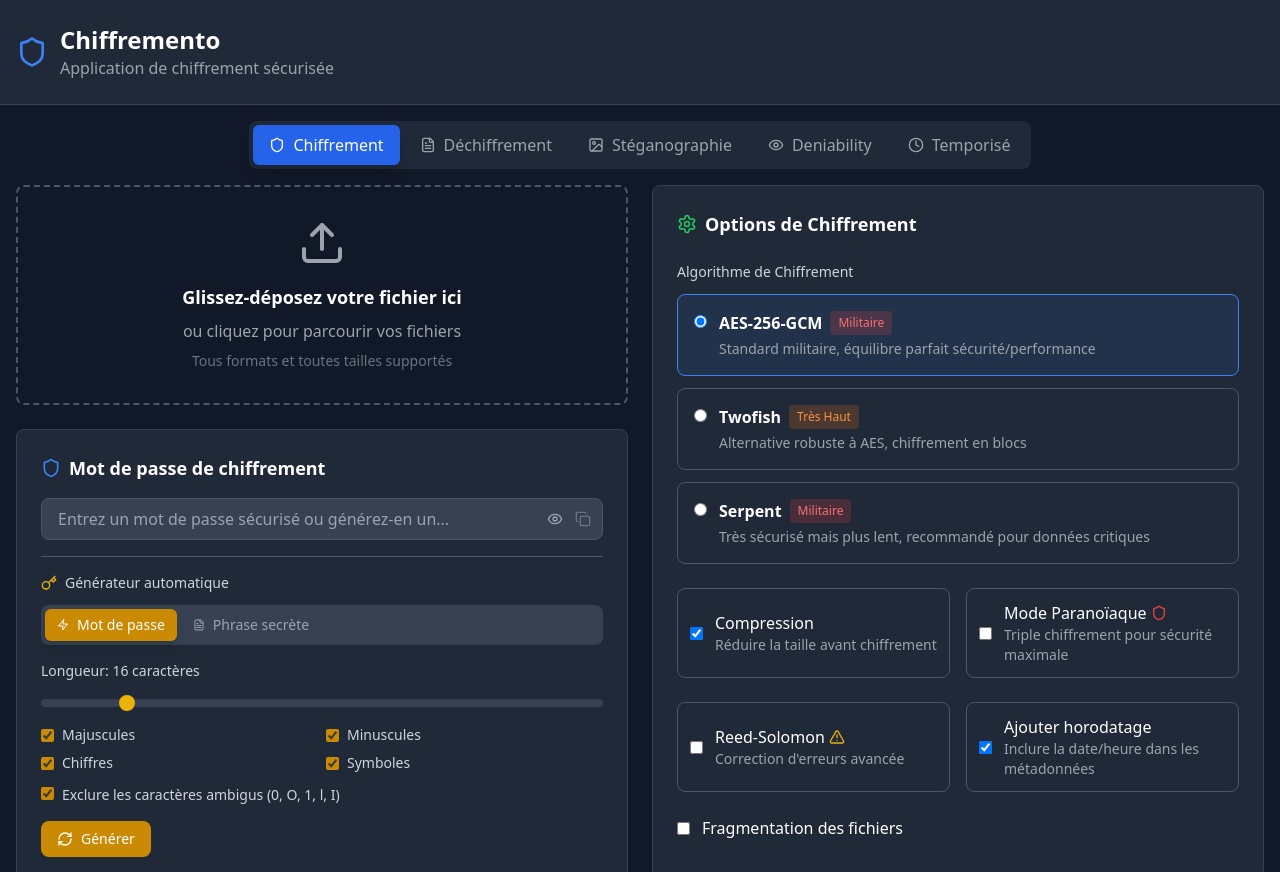
App Integration Tests › Tab State Management › should maintain form state when switching between tabs
In the password field with placeholder "Entrez un mot de passe sécurisé ou générez-en un...": [322, 519] box [41,498,603,540], type "persistent123"
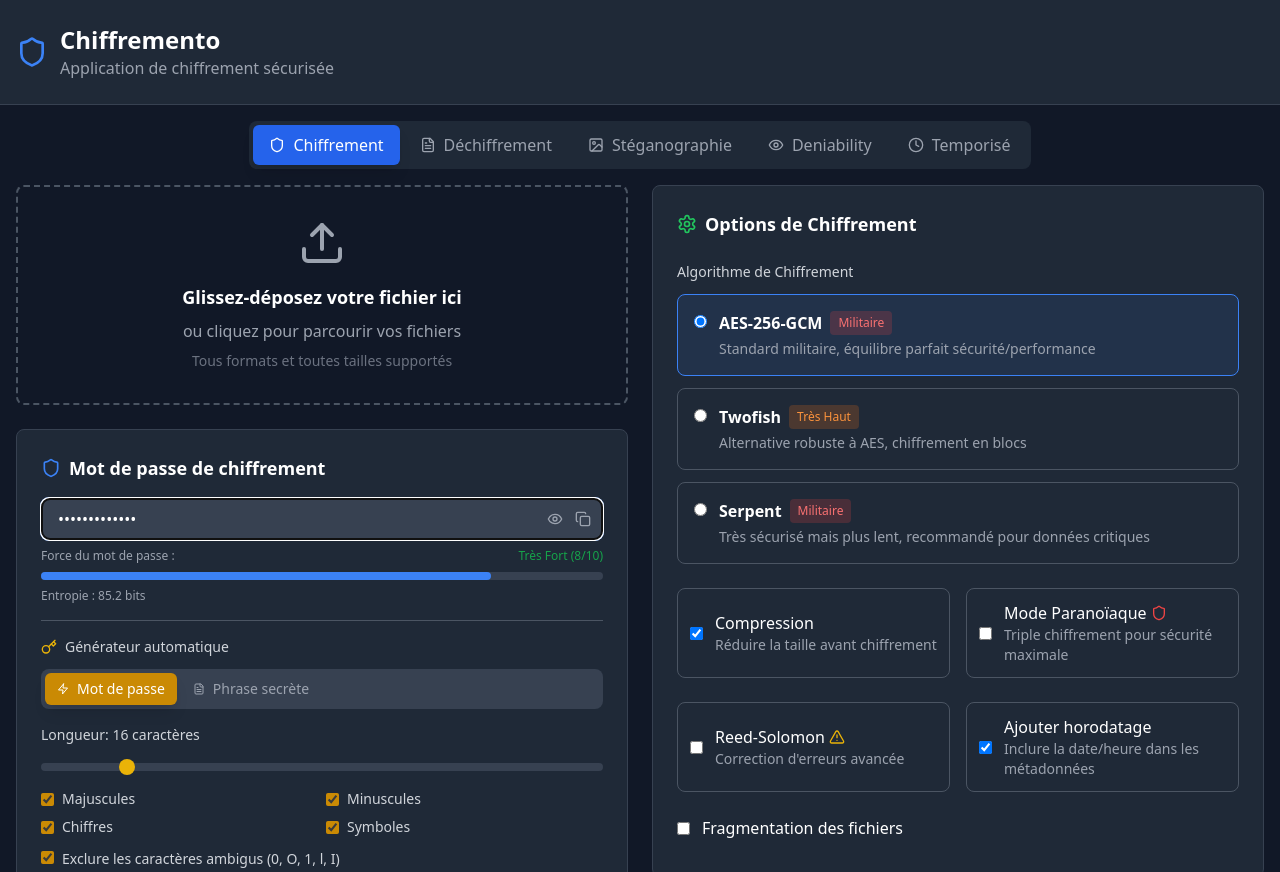
Switch to steganography tab
Click the button "Stéganographie": [660, 145] box [572,125,748,165]
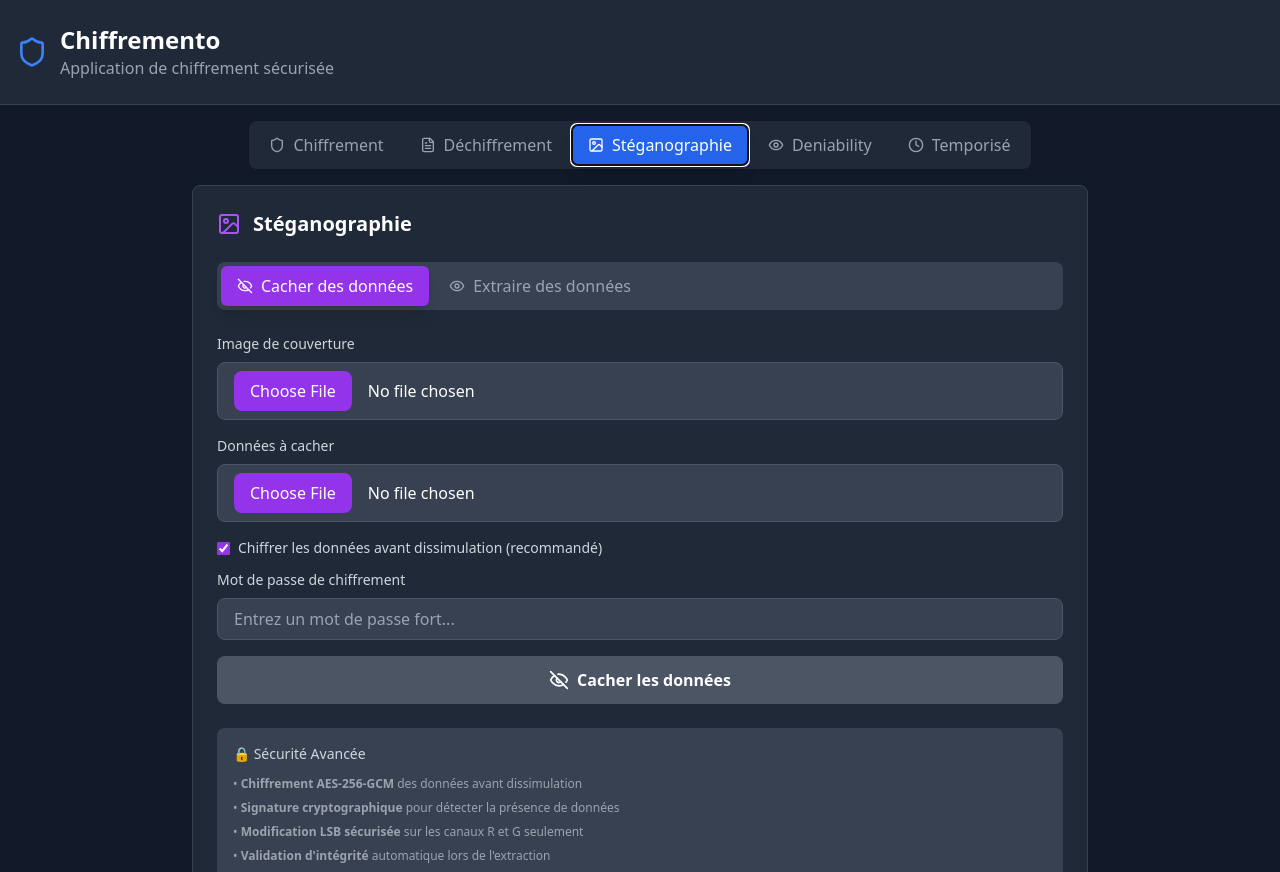
Switch back to encryption tab
Click the button "Chiffrement": [327, 145] box [254,125,400,165]
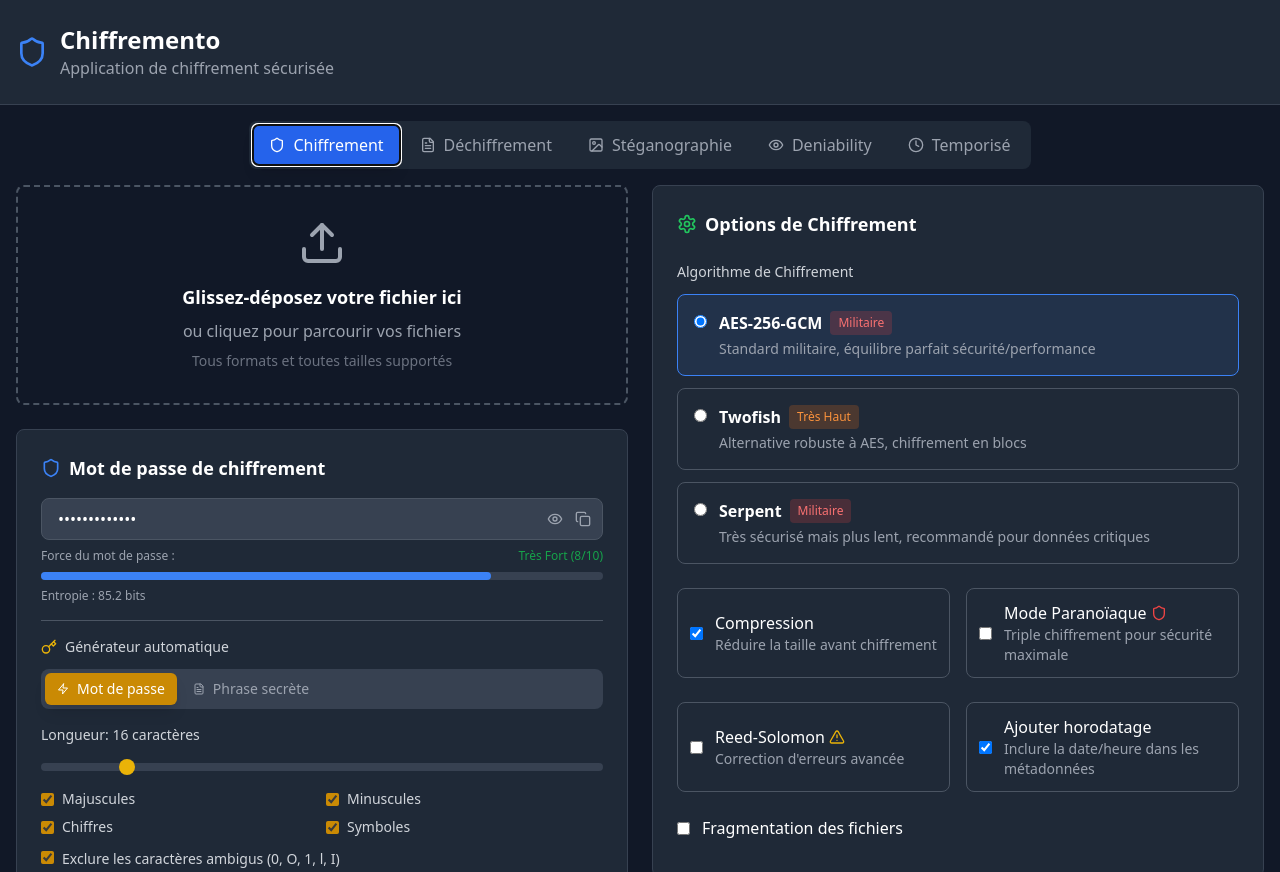
Now the password field with placeholder "Entrez un mot de passe sécurisé ou générez-en un..." holds "persistent123", box [41,498,603,540]
